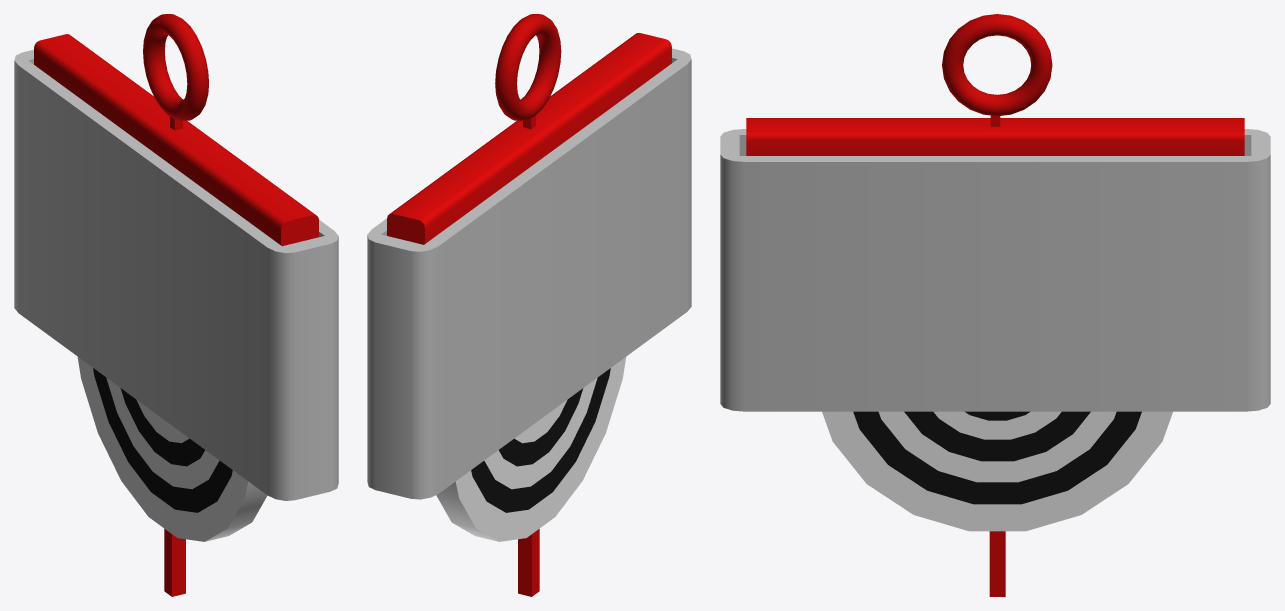
The model's file is crossbow_interact_target.fbx.
The picture shows the model from 3 angles, left to right: view 1: azimuth 30°, elevation 25°; view 2: azimuth 150°, elevation 25°; view 3: azimuth 270°, elevation 25°; orthographic projection.
Visible parts, largest first — view 1: crossbowpiece_obstacle, target; view 2: crossbowpiece_obstacle, target; view 3: crossbowpiece_obstacle, target.
Boxes of the visible parts, left/top/right/bottom form: crossbowpiece_obstacle: left=14, top=49, right=338, bottom=500; target: left=34, top=14, right=318, bottom=596; crossbowpiece_obstacle: left=367, top=48, right=691, bottom=499; target: left=387, top=14, right=671, bottom=596; crossbowpiece_obstacle: left=720, top=129, right=1270, bottom=411; target: left=746, top=14, right=1244, bottom=596.
Bounding box in the file's own units: 15.75 × 128 × 110.
